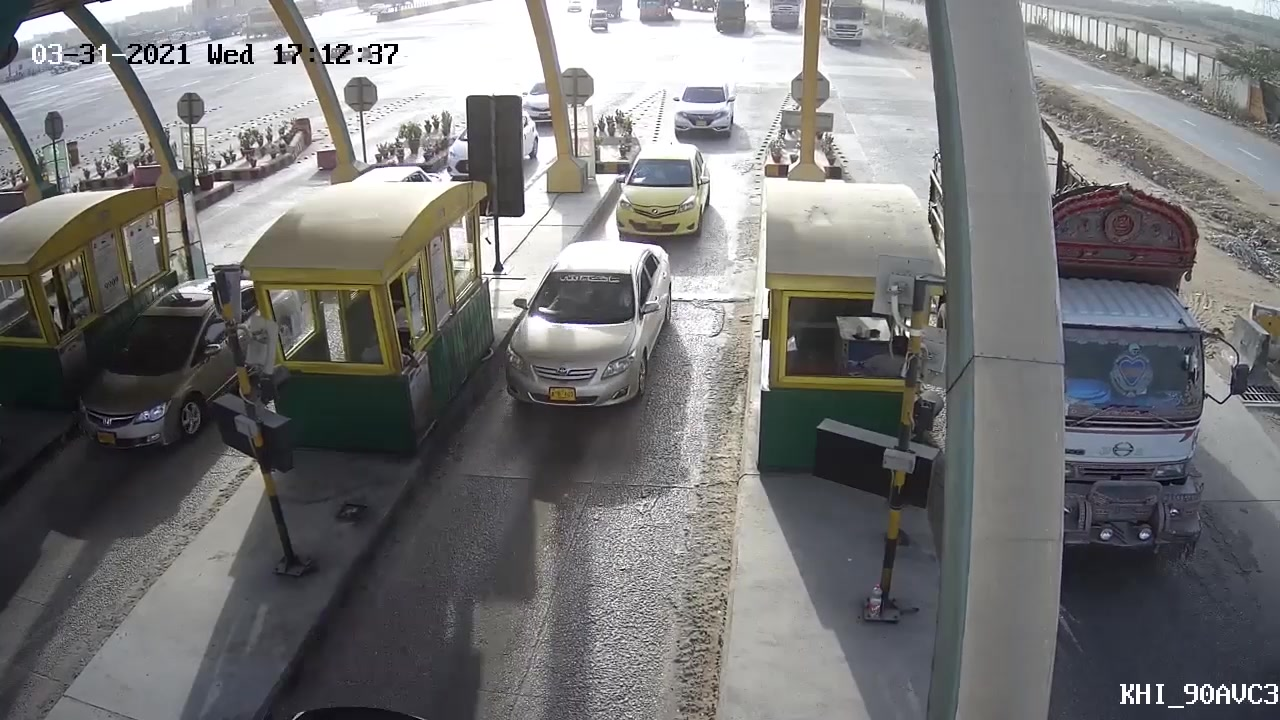F1: (507, 233, 673, 435), (615, 139, 712, 242)
